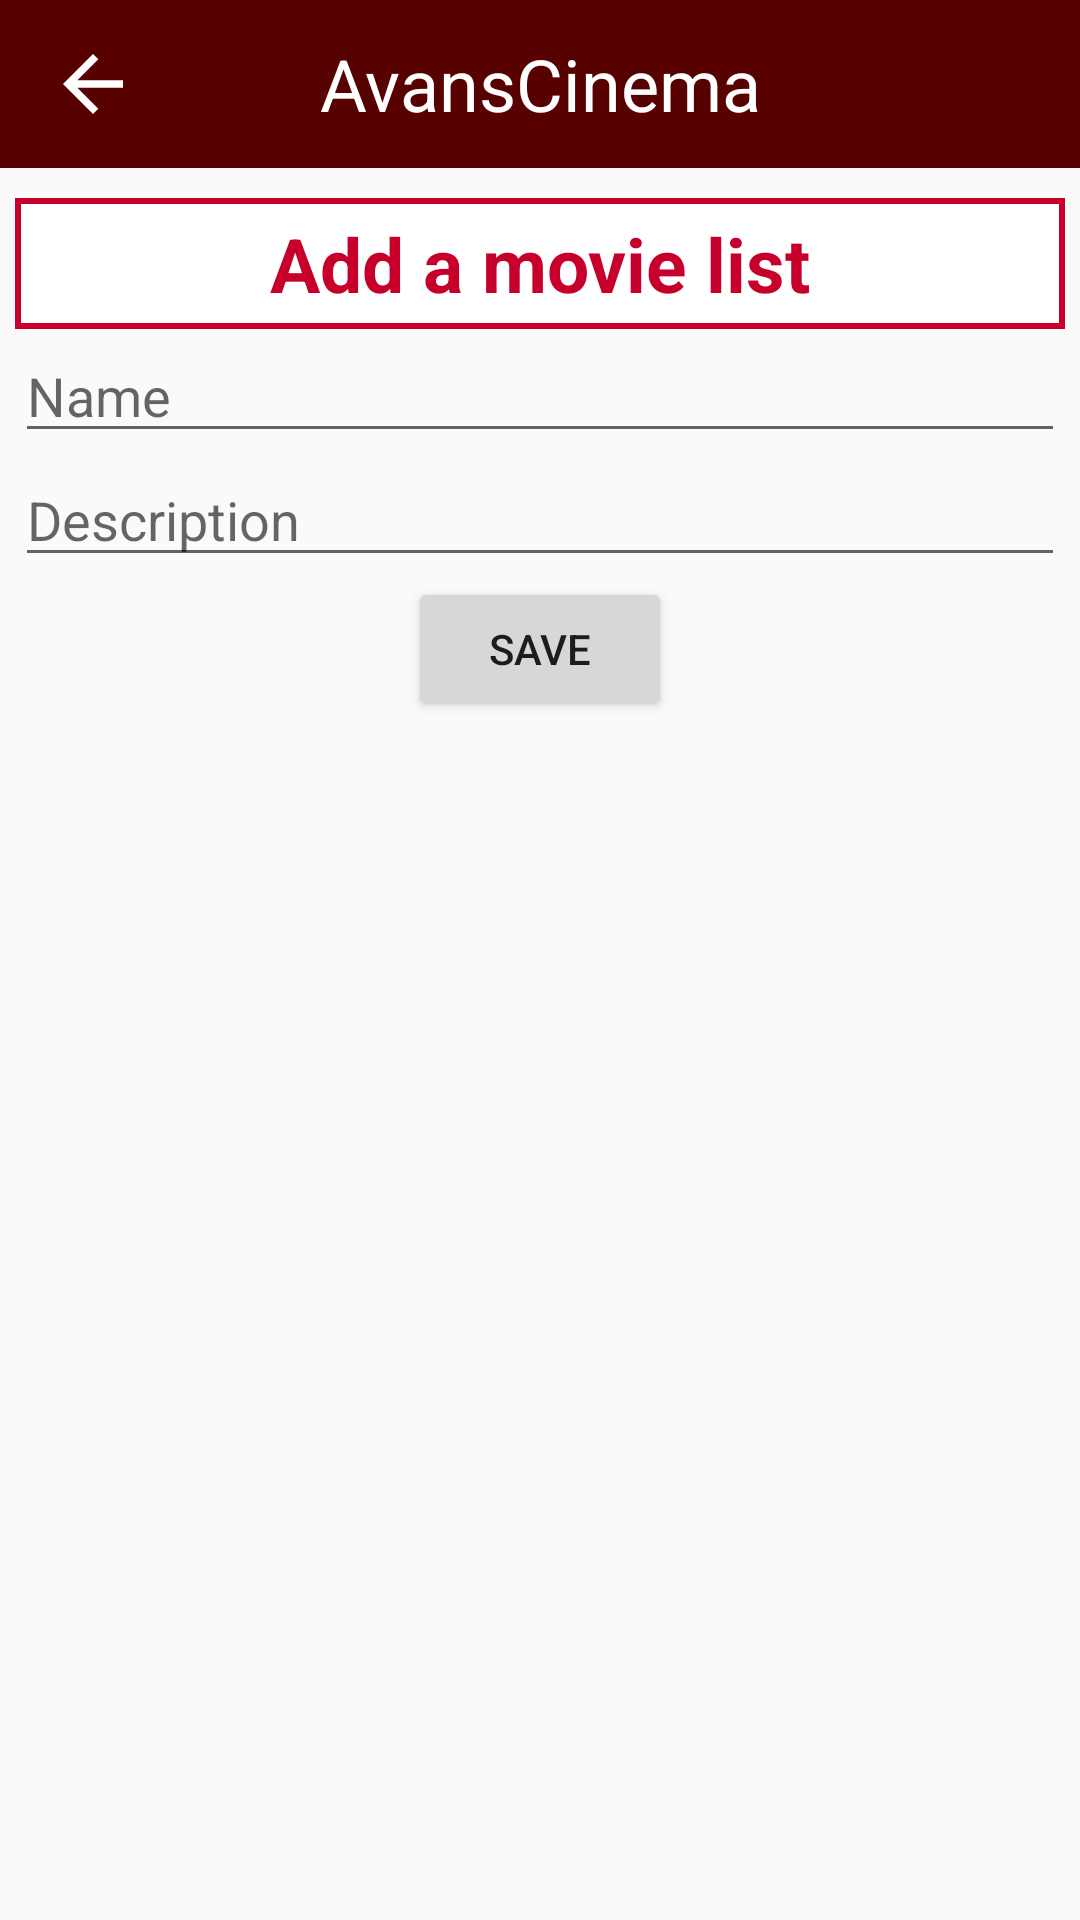

Screen size 1080 x 1920. Icon name, then its center in pixels as [x,y]:
back: [93,84]
